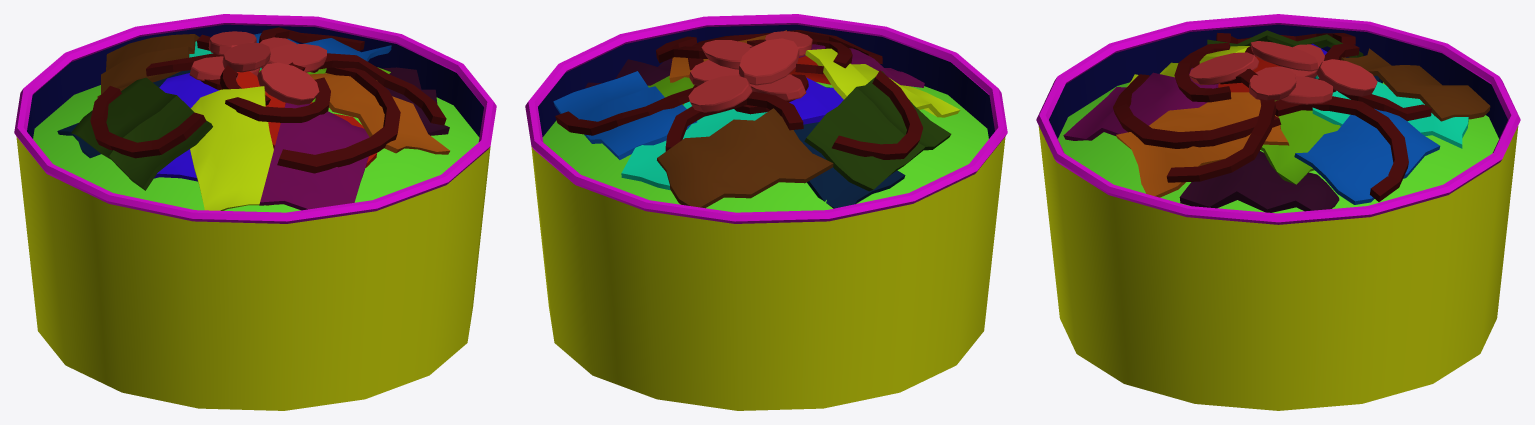
Rendered from Sobulgogi Keopbap.fbx.
3 views of the same model, side by side, from view 1: azimuth 30°, elevation 25°; view 2: azimuth 150°, elevation 25°; view 3: azimuth 270°, elevation 25° (orthographic).
Visible parts, largest first — view 1: Sobulgogi keopbap; view 2: Sobulgogi keopbap; view 3: Sobulgogi keopbap.
Boxes of the visible parts, x1,y1,x2,y2 form: Sobulgogi keopbap: (14,14,496,410); Sobulgogi keopbap: (525,14,1007,410); Sobulgogi keopbap: (1036,14,1520,410).
Size of the model in its own units: 44.91 by 44.91 by 27.67.
